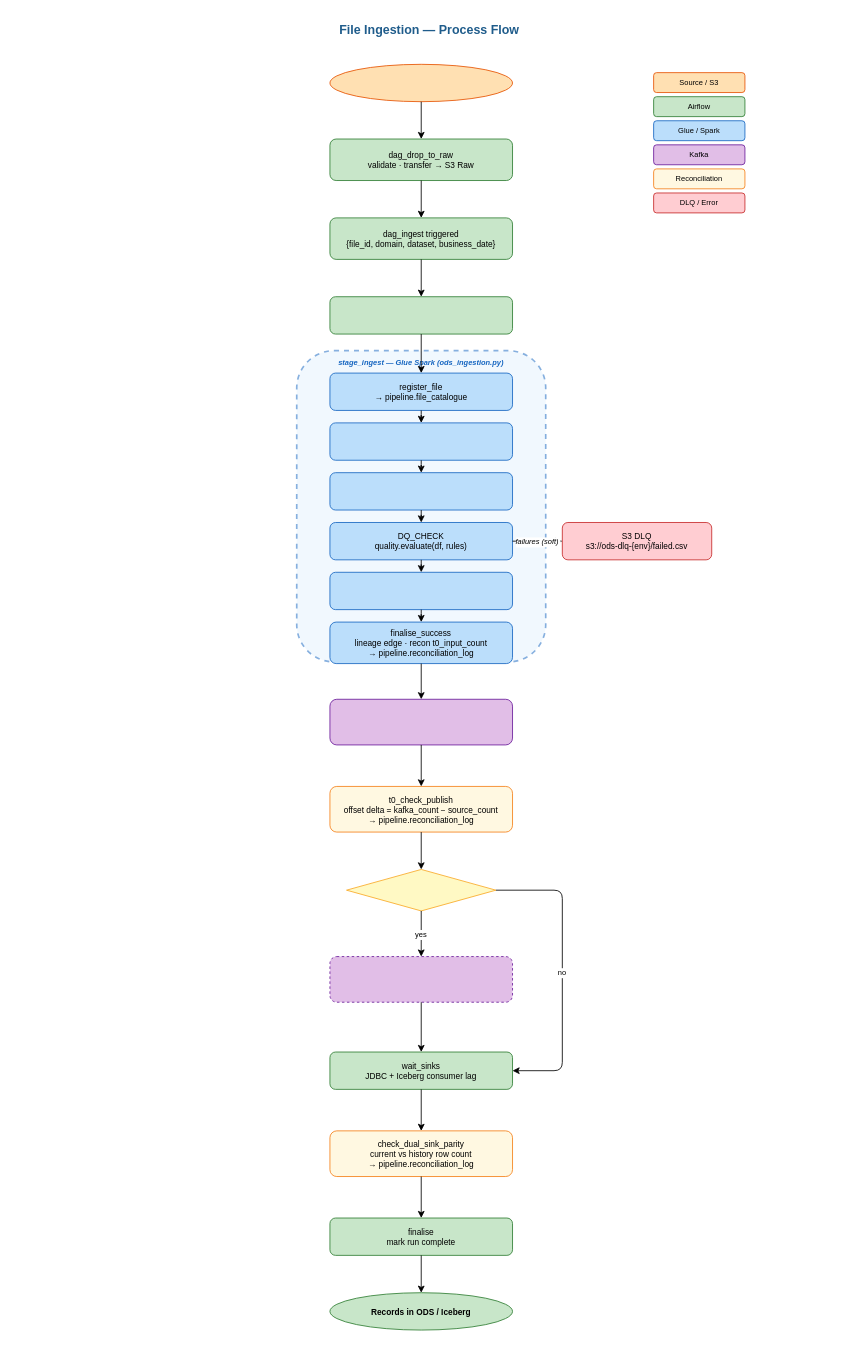
This 858x1345 diagram has some shape labels left out. Here are the shapes that lost their labels. From the top down, the centre of each, then its label:
(x=421, y=82): File arrives via SFTP
(x=421, y=315): init_run generate run_id
(x=421, y=441): RAW_READ read from s3://ods-raw-{env}/
(x=421, y=491): SCHEMA_VALIDATE check columns vs schema_id
(x=421, y=590): CURATED_WRITE → s3://ods-curated-{env}/ (Parquet)
(x=421, y=721): stage_publish ods_s3_publish.py → Kafka topic: {domain}.{dataset}.raw
(x=421, y=890): is_canonical?
(x=421, y=979): stage_canonicalize raw → canonical Avro topic: {domain}.{dataset}
